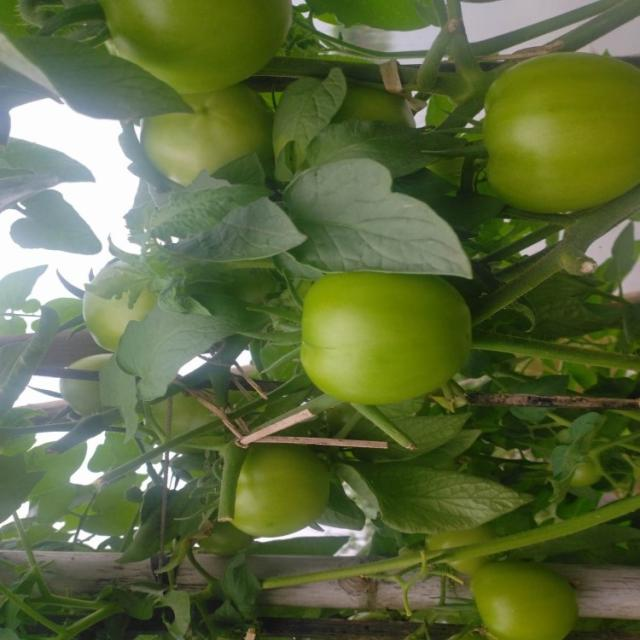tomato: (293, 261, 472, 409), (484, 46, 640, 211), (100, 1, 302, 93), (134, 87, 271, 181), (223, 437, 333, 540), (465, 561, 582, 640), (73, 261, 164, 350), (57, 355, 115, 415), (337, 82, 411, 125)
